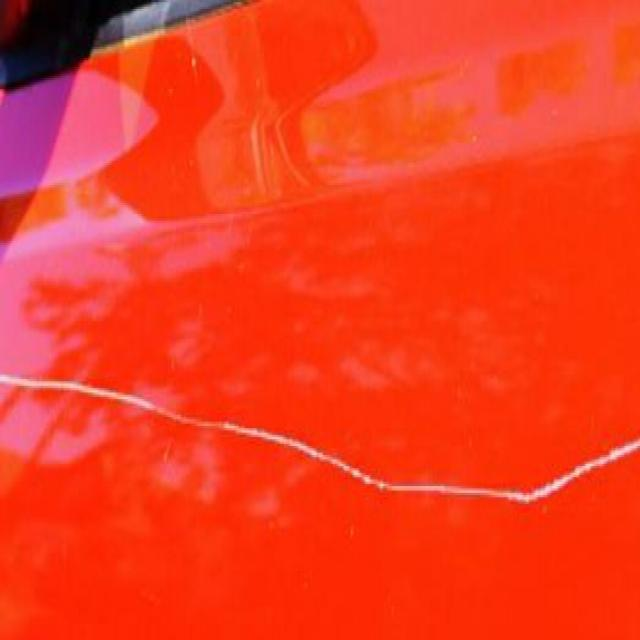scratch: (2, 356, 640, 514)
